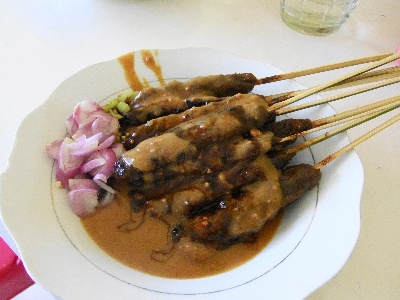sate: (113, 55, 396, 198)
